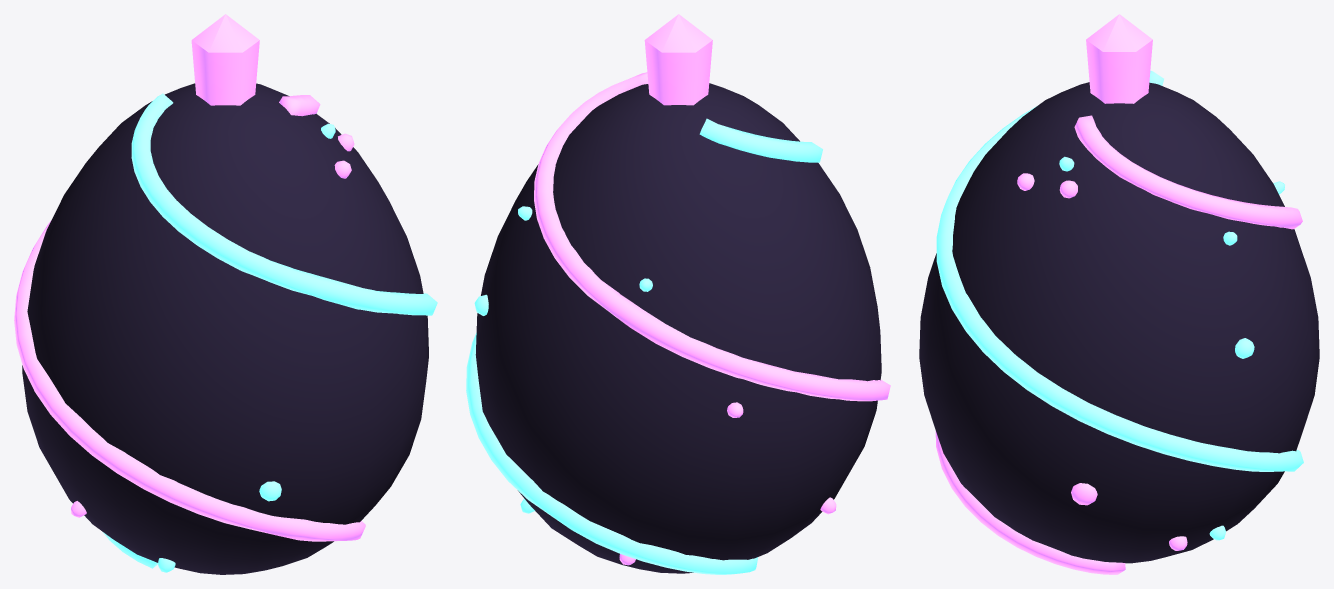
The model's file is EggMythic.glb.
3 views of the same model, side by side, from view 1: azimuth 30°, elevation 25°; view 2: azimuth 150°, elevation 25°; view 3: azimuth 270°, elevation 25° (orthographic). The views are drawn at different scales.
Parts seen in each view (by area): view 1: Body, Glow, GlowCore; view 2: Body, Glow, GlowCore; view 3: Body, Glow, GlowCore.
Part boxes in pixels (left/top/right/bottom): Body: left=22, top=83, right=428, bottom=574; Glow: left=14, top=14, right=365, bottom=541; GlowCore: left=103, top=93, right=437, bottom=572; Body: left=475, top=83, right=881, bottom=573; Glow: left=534, top=14, right=890, bottom=565; GlowCore: left=466, top=118, right=822, bottom=574; Body: left=919, top=82, right=1319, bottom=563; Glow: left=935, top=14, right=1302, bottom=574; GlowCore: left=936, top=70, right=1303, bottom=540.
Size of the model in its own units: 2.01 by 2.8 by 1.91.
3 materials, 1 textured.
